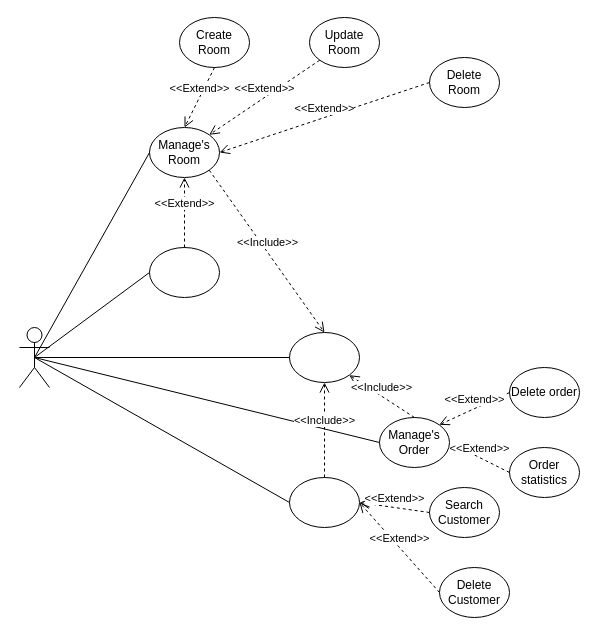
Some shapes in this 597 by 635 pixel diagram are drawn without their labels. Each missing label, with the box of its shape:
Admin: (18, 326, 50, 388)
Login: (288, 332, 360, 382)
Manage's Customer: (288, 476, 360, 528)
Search room: (148, 246, 220, 298)
